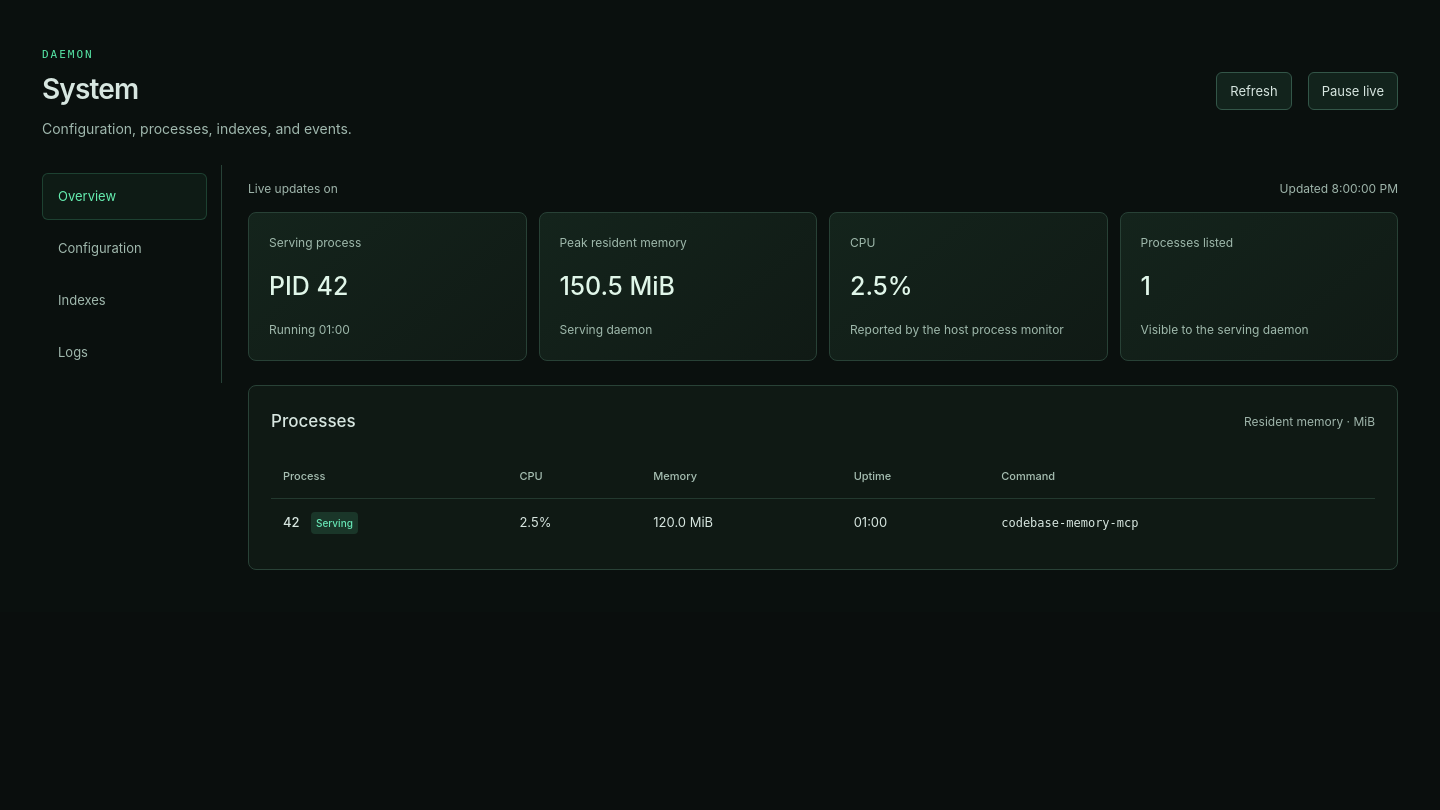
Test: System workspace › shows persisted indexes even when the current daemon has no index jobs
Click the tab "Indexes" at (124, 300), box [42,277,207,324]
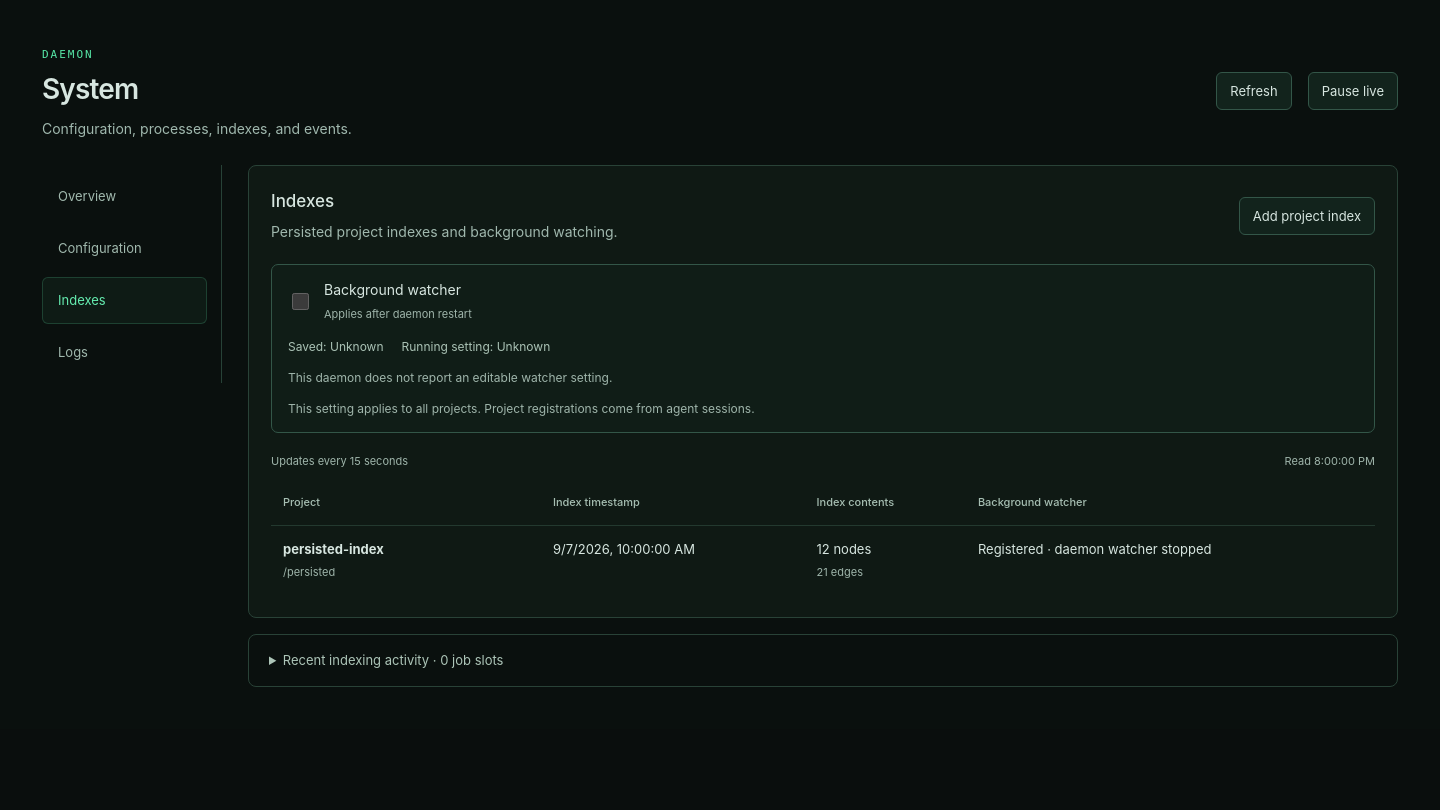
Result: the table with class "system-index-table" shows "persisted-index" at [283,540,384,556]
Result: the table with class "system-index-table" shows "12 nodes" at [271,481,1375,595]
Result: the table with class "system-index-table" shows "Registered · daemon watcher stopped" at [978,540,1212,556]
